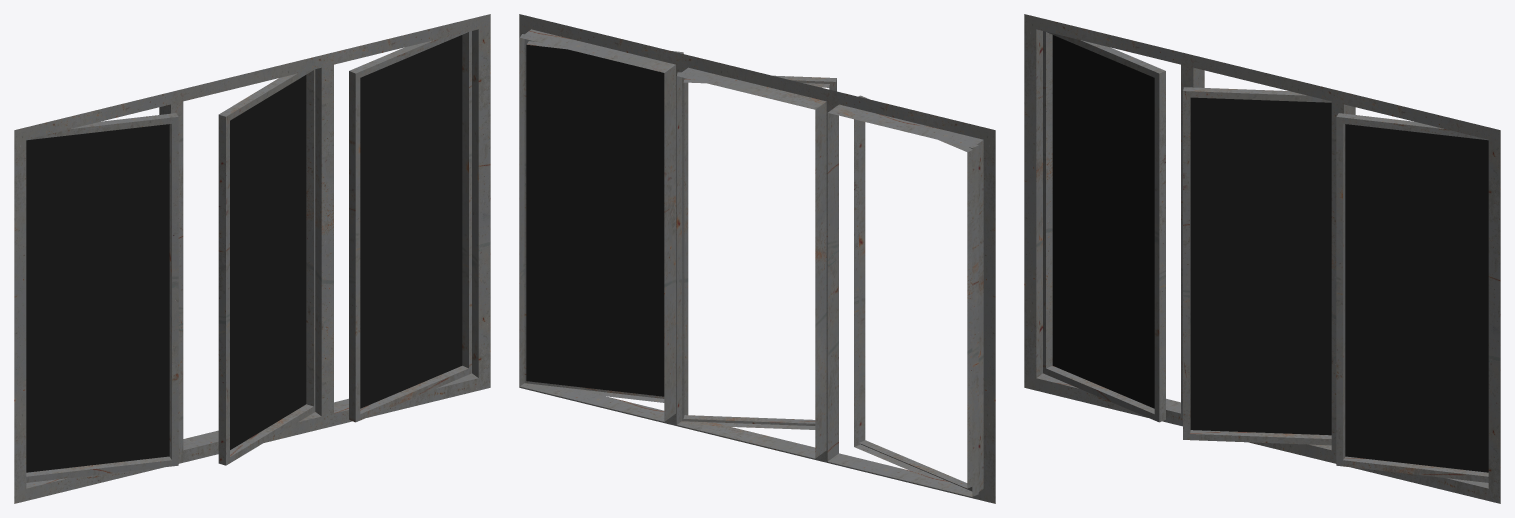
The model's file is window_002_004_23.gltf.
3 views of the same model, side by side, from view 1: azimuth 30°, elevation 25°; view 2: azimuth 150°, elevation 25°; view 3: azimuth 330°, elevation 25° (orthographic).
Visible parts, largest first — view 1: Window_002.004_23; view 2: Window_002.004_23; view 3: Window_002.004_23.
Boxes of the visible parts, left/top/right/bottom form: Window_002.004_23: left=14, top=14, right=490, bottom=503; Window_002.004_23: left=519, top=14, right=995, bottom=503; Window_002.004_23: left=1024, top=14, right=1500, bottom=503.
Size of the model in its own units: 1.2 by 0.9 by 0.1656.
2 materials, 1 textured.
